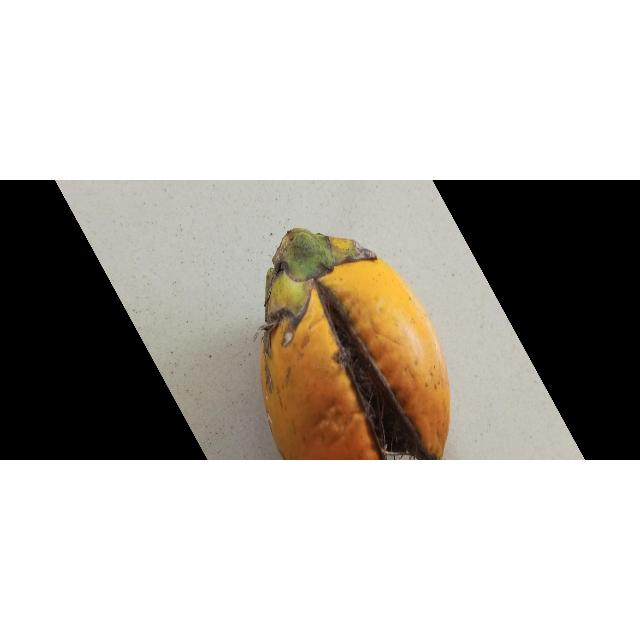damaged: (256, 228, 450, 461)
